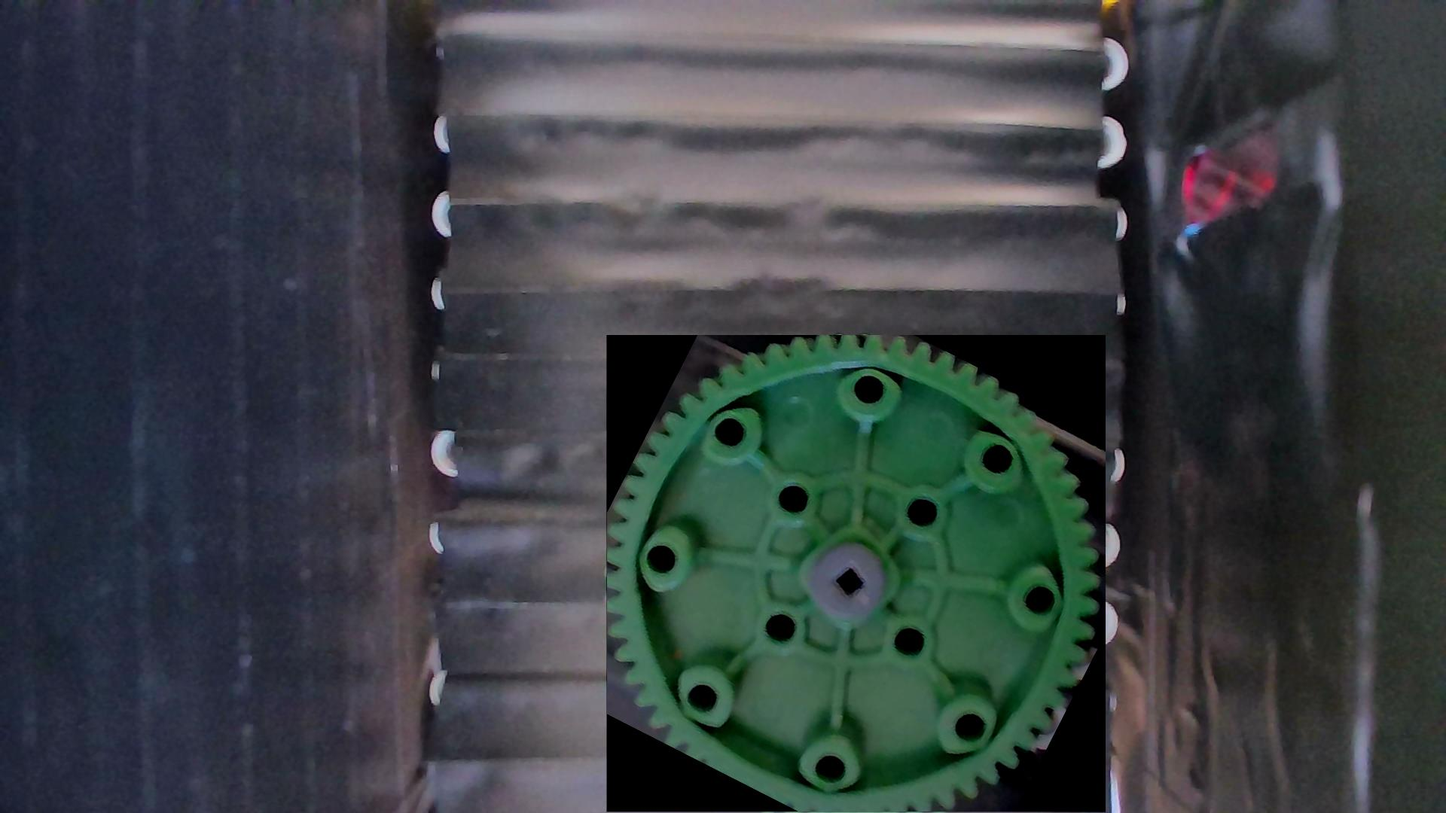gear: (606, 336, 1105, 813)
